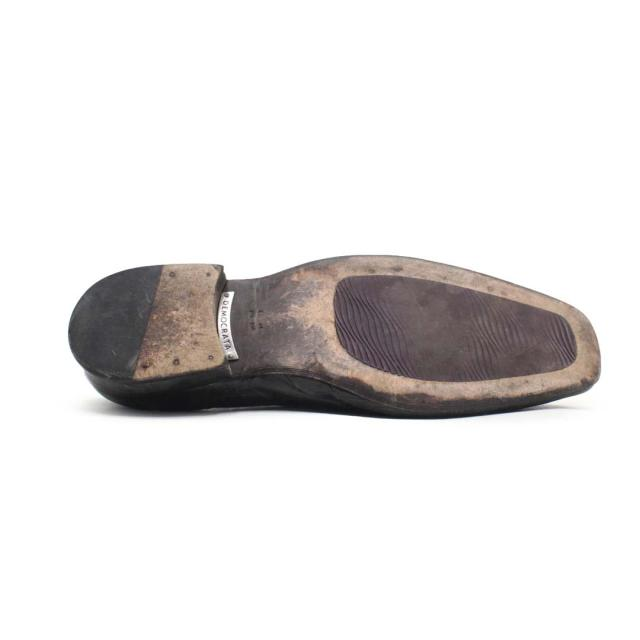outersole: (66, 254, 596, 421)
